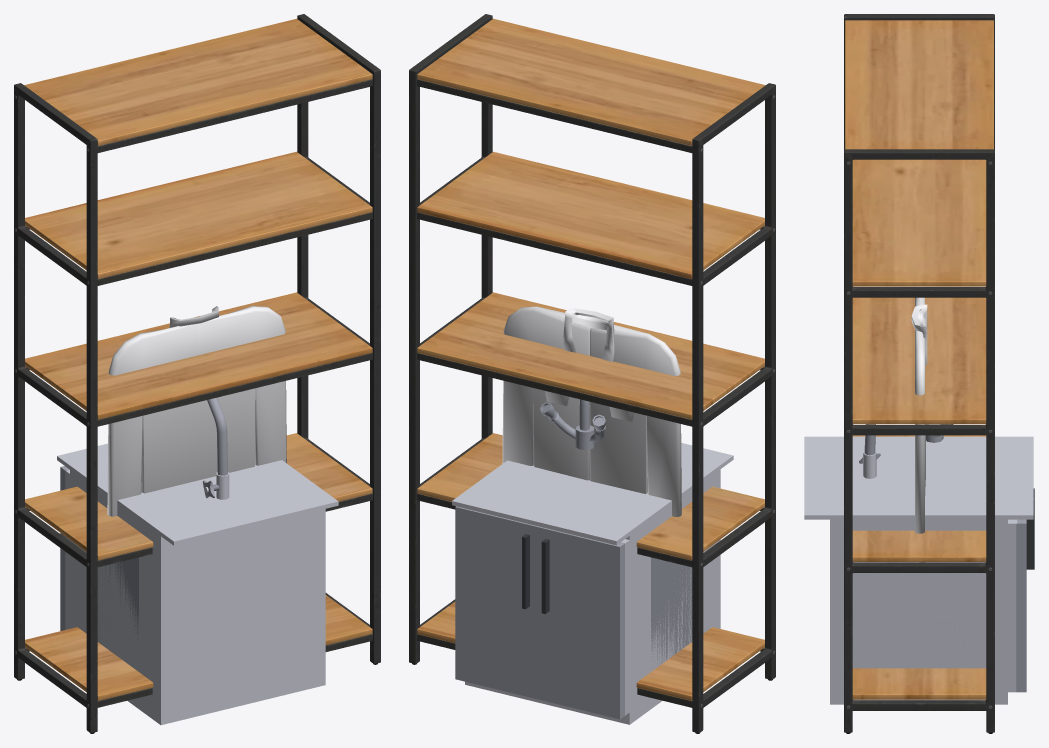
The model's file is bio.glb.
The picture shows the model from 3 angles, left to right: view 1: azimuth 30°, elevation 25°; view 2: azimuth 150°, elevation 25°; view 3: azimuth 270°, elevation 25°; orthographic projection. The views are drawn at different scales.
Visible parts, largest first — view 1: steel_frame_shelves_01, counter_counter, ppe_lab_gown, counter_counter_3_shelves.001, counter_counter_sink.001, cabinet_cabinet, counter_counter_sink_faucet.001, counter_counter_cabinet_door008; view 2: steel_frame_shelves_01, ppe_lab_gown, counter_counter_cabinet_door008, counter_counter_cabinet_door009, counter_counter, counter_counter_3_shelves.001, counter_counter_cabinet_door011, cabinet_cabinet, counter_counter_sink.001, counter_counter_sink_faucet_eye_wash.001, counter_counter_cabinet_door010; view 3: steel_frame_shelves_01, counter_counter, counter_counter_3_shelves.001, counter_counter_cabinet_door011, ppe_lab_gown, counter_counter_sink.001.
Boxes of the visible parts, x1,y1,x2,y2 form: steel_frame_shelves_01: [14, 14, 380, 733]; counter_counter: [58, 444, 338, 725]; ppe_lab_gown: [107, 306, 286, 516]; counter_counter_3_shelves.001: [57, 443, 327, 724]; counter_counter_sink.001: [57, 456, 338, 545]; cabinet_cabinet: [97, 557, 138, 645]; counter_counter_sink_faucet.001: [207, 397, 227, 475]; counter_counter_cabinet_door008: [60, 466, 69, 630]; steel_frame_shelves_01: [409, 14, 775, 733]; ppe_lab_gown: [502, 306, 681, 516]; counter_counter_cabinet_door008: [537, 527, 624, 719]; counter_counter_cabinet_door009: [455, 507, 538, 699]; counter_counter: [453, 454, 723, 628]; counter_counter_3_shelves.001: [452, 460, 719, 724]; counter_counter_cabinet_door011: [456, 506, 537, 692]; cabinet_cabinet: [651, 557, 692, 669]; counter_counter_sink.001: [473, 443, 733, 544]; counter_counter_sink_faucet_eye_wash.001: [540, 402, 606, 449]; counter_counter_cabinet_door010: [537, 526, 624, 699]; steel_frame_shelves_01: [844, 14, 994, 733]; counter_counter: [804, 436, 1032, 704]; counter_counter_3_shelves.001: [805, 436, 1033, 704]; counter_counter_cabinet_door011: [1016, 497, 1034, 692]; ppe_lab_gown: [911, 297, 927, 562]; counter_counter_sink.001: [863, 446, 986, 478].
Size of the model in its own units: 1.1 by 2.14 by 0.7673.
6 materials, 5 textured.
